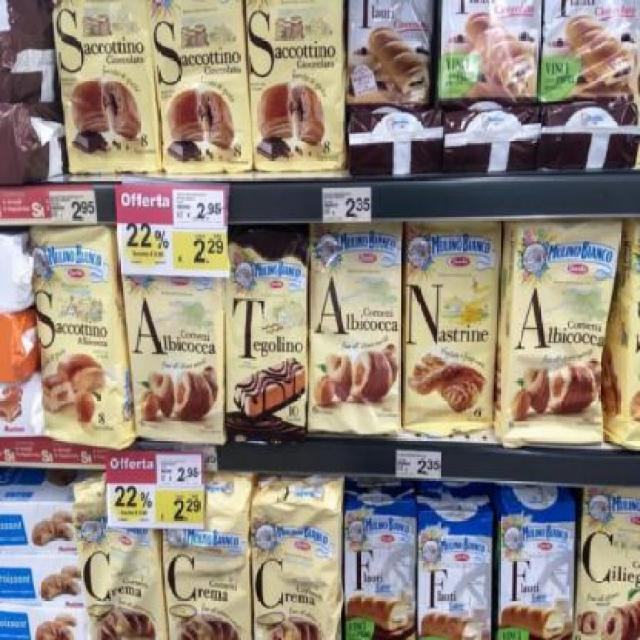Merendine: (502, 220, 616, 448), (113, 228, 227, 446), (33, 234, 138, 438), (306, 226, 408, 432), (401, 224, 497, 436), (52, 2, 166, 180), (146, 2, 256, 176), (244, 1, 342, 174), (226, 242, 312, 430), (152, 486, 252, 640), (248, 488, 347, 640), (72, 488, 168, 640), (438, 2, 544, 108), (418, 498, 496, 638), (344, 492, 418, 638), (499, 504, 576, 638), (536, 0, 638, 100), (349, 1, 431, 110), (579, 492, 639, 640)
